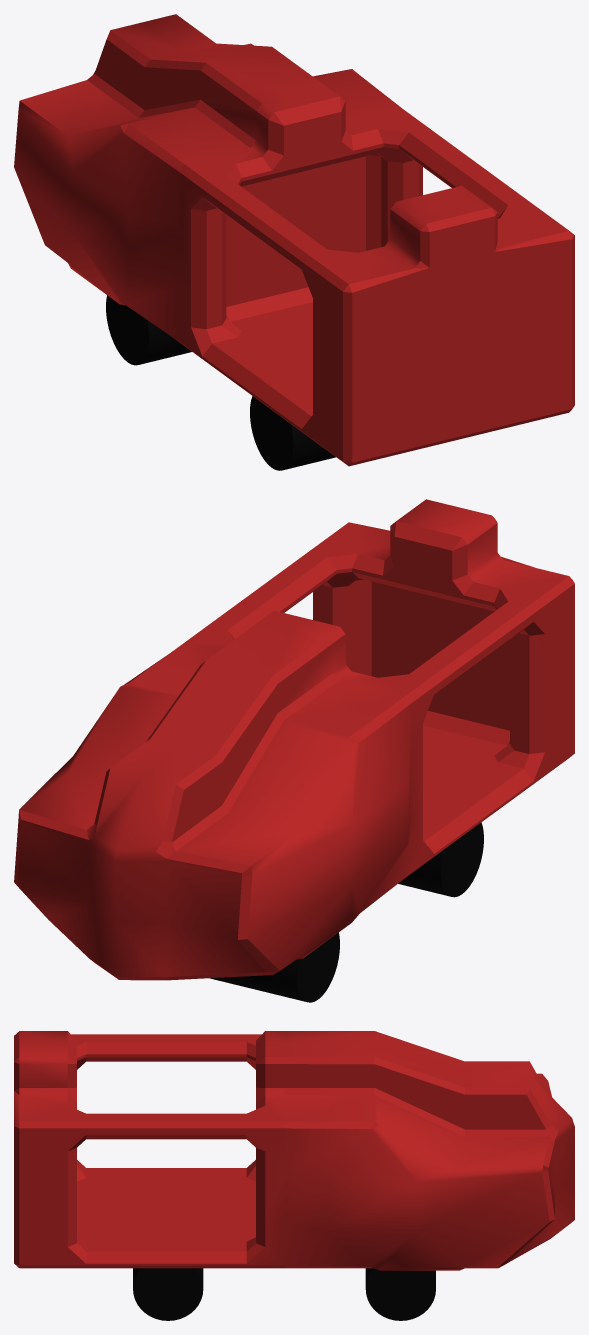
File: Engine.fbx
3 views of the same model, one above another, from view 1: azimuth 30°, elevation 25°; view 2: azimuth 150°, elevation 25°; view 3: azimuth 270°, elevation 25° (orthographic). The views are drawn at different scales.
Visible parts, largest first — view 1: Cube_1_Null, Cylinder; view 2: Cube_1_Null, Cylinder; view 3: Cube_1_Null, Cylinder.
Part boxes in pixels (left/top/right/bottom): Cube_1_Null: left=14, top=14, right=574, bottom=466; Cylinder: left=106, top=295, right=335, bottom=470; Cube_1_Null: left=14, top=499, right=574, bottom=980; Cylinder: left=210, top=822, right=483, bottom=1002; Cube_1_Null: left=14, top=1031, right=574, bottom=1270; Cylinder: left=133, top=1268, right=435, bottom=1320.
Bounding box in the file's own units: 48.18 × 48.82 × 104.
